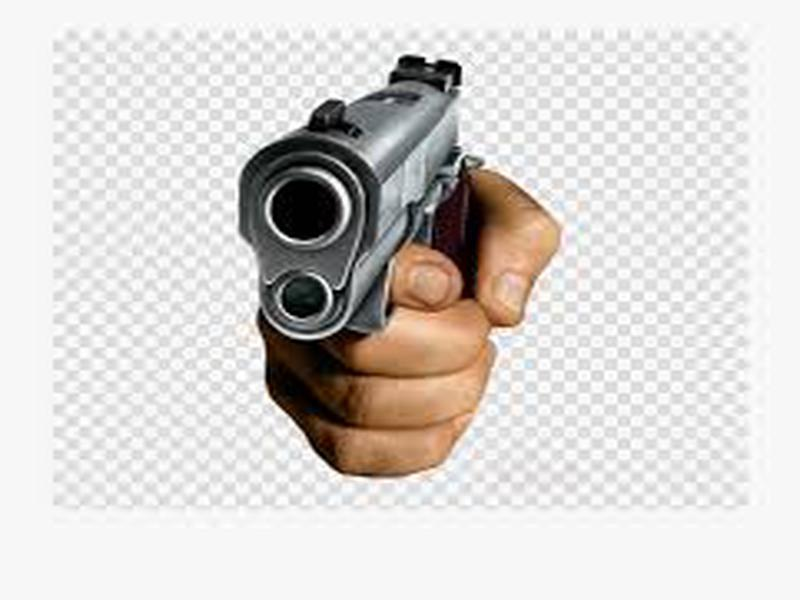gun: (236, 50, 565, 481)
